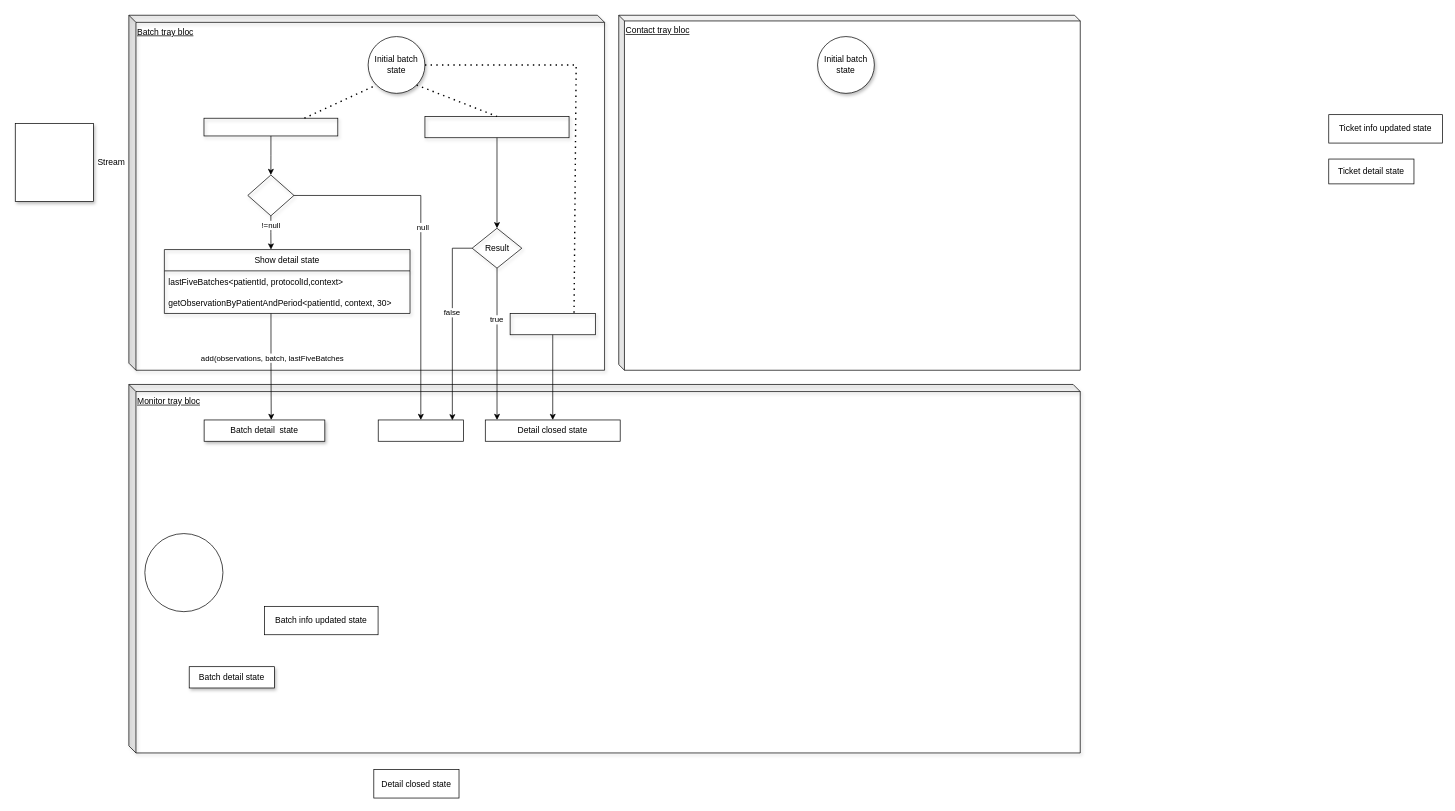
Some shapes in this 1455 by 811 pixel diagram are drawn without their labels. Each missing label, with the centre of its shape:
"Batch" goes at pixel 271 196.
"Batch API" goes at pixel 55 163.
"Error state" goes at pixel 420 430.
"getBatchByID<batchId, context>" goes at pixel 271 128.
"Initial monitoring state" goes at pixel 183 572.
"unlock<batchId>" goes at pixel 553 325.
"validateBatch<batchId, annotation>" goes at pixel 497 128.
